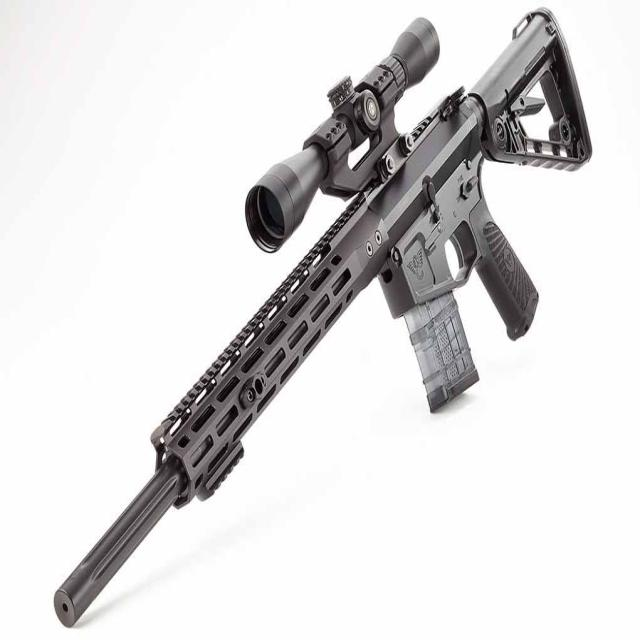Rifle: (52, 10, 594, 630)
